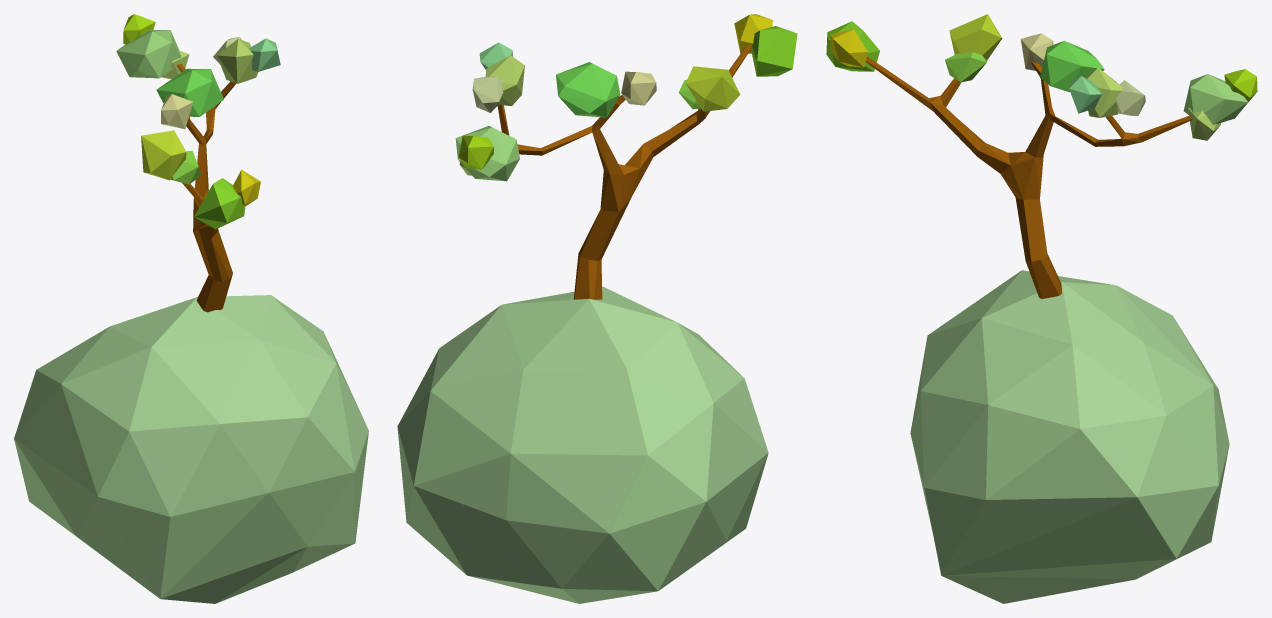
The model's file is Planet_1(1).fbx.
3 views of the same model, side by side, from view 1: azimuth 30°, elevation 25°; view 2: azimuth 150°, elevation 25°; view 3: azimuth 270°, elevation 25° (orthographic). The views are drawn at different scales.
Visible parts, largest first — view 1: Cube; view 2: Cube; view 3: Cube.
Part boxes in pixels (x1,y1,x2,y2): Cube: (14,14,368,603); Cube: (397,14,797,603); Cube: (826,14,1257,603).
Size of the model in its own units: 1036 by 1692 by 1241.
